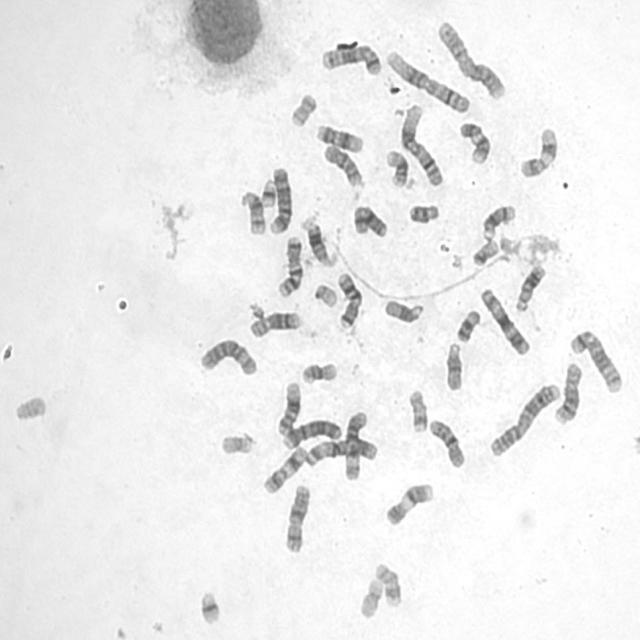A1: (382, 46, 472, 115), (396, 100, 446, 188)
A2: (434, 17, 507, 101), (486, 379, 562, 459)
A3: (477, 285, 532, 357), (302, 435, 380, 470)
B4: (280, 416, 343, 450), (265, 163, 294, 235)
B5: (567, 326, 624, 394), (318, 40, 382, 76)
C10: (426, 416, 467, 469), (320, 142, 365, 189)
C11: (261, 442, 309, 496), (517, 124, 559, 180)
C12: (313, 121, 365, 154), (274, 380, 302, 438)
C6: (196, 335, 258, 378), (342, 408, 369, 482)
C7: (274, 234, 304, 299), (334, 269, 364, 331)
C8: (552, 359, 584, 426), (247, 308, 302, 339)
C9: (383, 480, 436, 528), (456, 119, 492, 165)
D13: (300, 216, 338, 268), (513, 262, 547, 313)
D14: (479, 201, 517, 242), (237, 188, 267, 236)
D15: (381, 296, 425, 326), (442, 340, 465, 392)
E16: (382, 147, 410, 189), (299, 360, 338, 386)
E17: (372, 560, 402, 608), (406, 386, 429, 434)
E18: (453, 307, 482, 344), (406, 200, 440, 226)
F19: (356, 575, 385, 621), (219, 434, 253, 455)
F20: (288, 90, 318, 128), (470, 236, 500, 268)
G21: (196, 587, 222, 626), (258, 176, 277, 209)
G22: (311, 280, 339, 310), (14, 396, 46, 420)
X: (281, 482, 312, 554), (350, 202, 389, 239)
